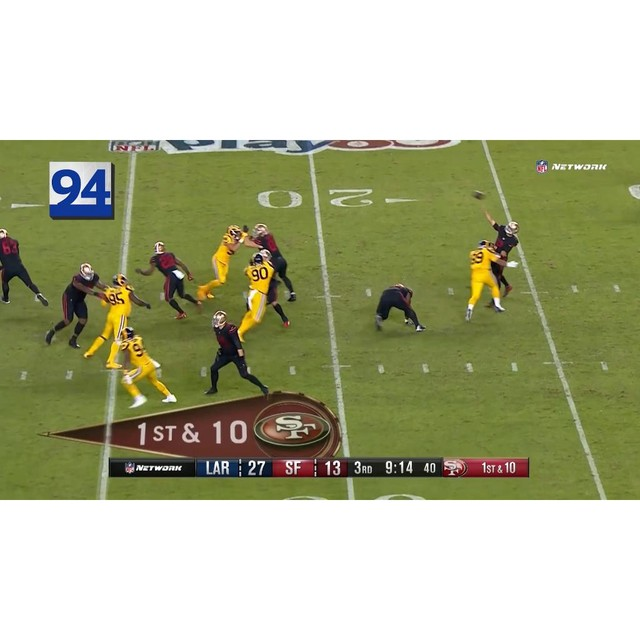american-football-player: (83, 273, 150, 370), (204, 312, 268, 398), (45, 263, 107, 349), (115, 327, 177, 409), (136, 241, 200, 320), (198, 224, 251, 301), (249, 223, 295, 301), (1, 229, 47, 307), (248, 250, 290, 332), (465, 240, 505, 324), (373, 283, 425, 332), (479, 236, 515, 298)
